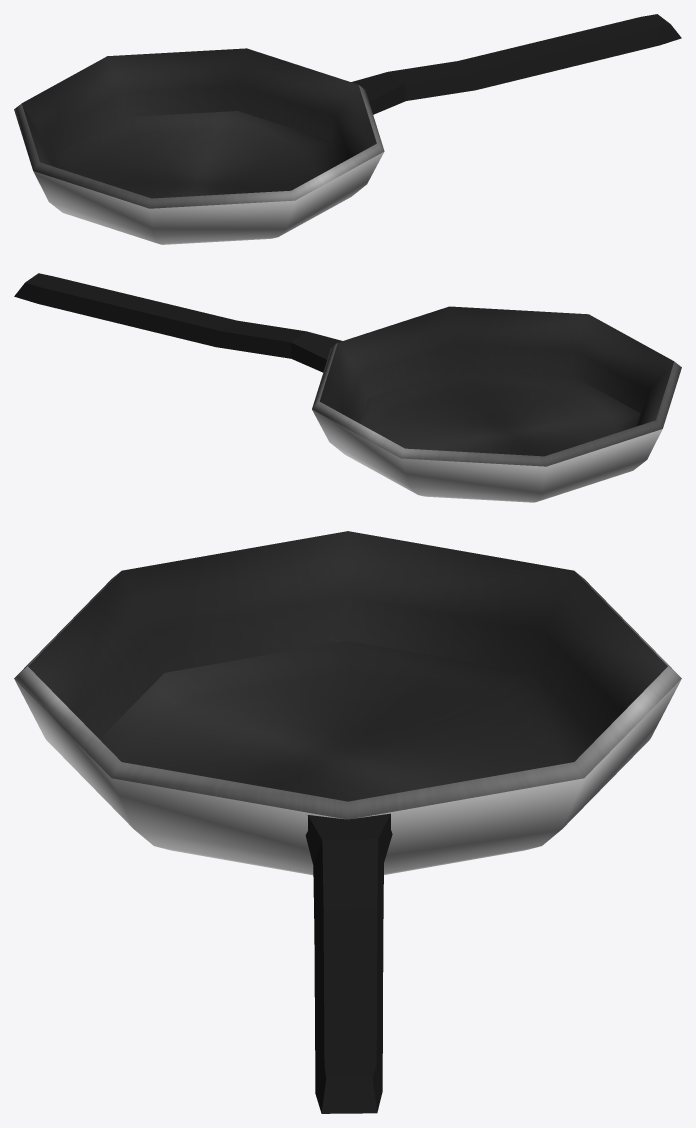
File: Frying_Pan_C.FBX
The picture shows the model from 3 angles, top to bottom: view 1: azimuth 30°, elevation 25°; view 2: azimuth 150°, elevation 25°; view 3: azimuth 270°, elevation 25°; orthographic projection. The views are drawn at different scales.
Visible parts, largest first — view 1: Frying_Pan; view 2: Frying_Pan; view 3: Frying_Pan.
Boxes of the visible parts, x1,y1,x2,y2 form: Frying_Pan: (14,14,681,244); Frying_Pan: (14,273,681,502); Frying_Pan: (14,531,681,1113).
Size of the model in its own units: 141 by 13.23 by 73.2.
